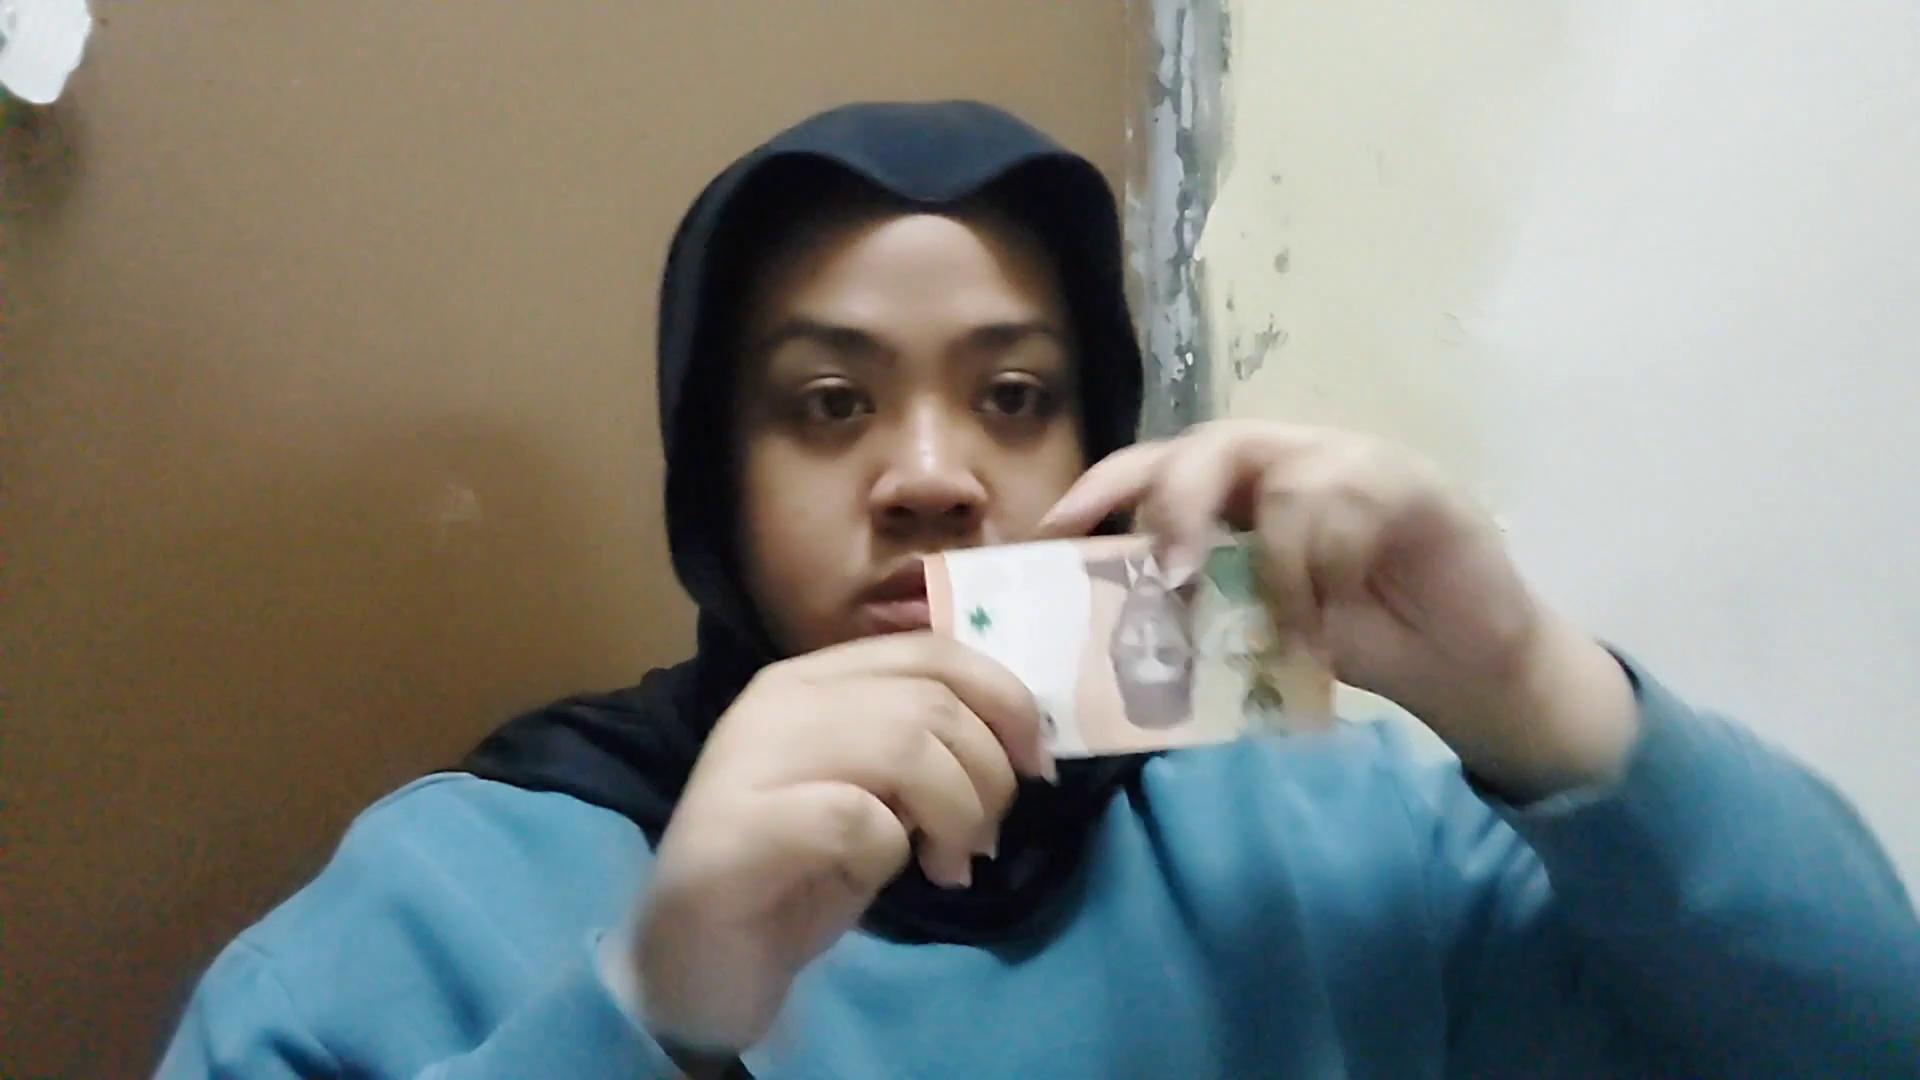5k: (928, 558, 1329, 742)
